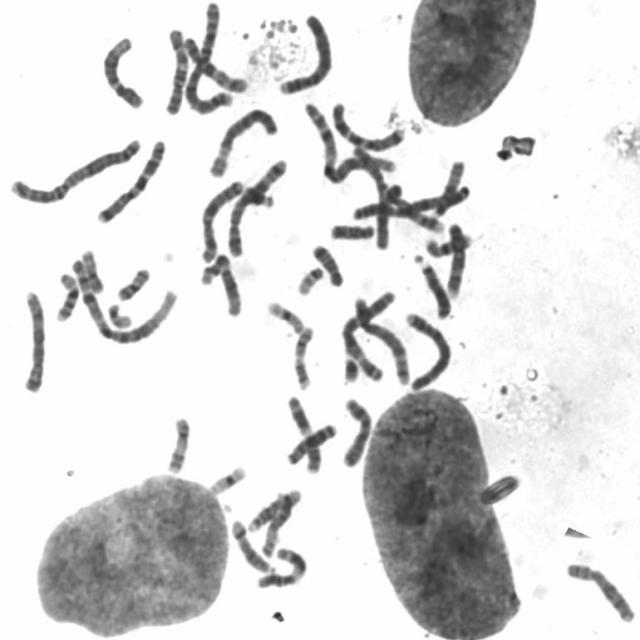A1: (70, 245, 180, 348), (299, 93, 401, 187)
A2: (4, 130, 146, 206), (180, 4, 235, 117)
A3: (334, 284, 398, 385), (347, 179, 473, 222)
B4: (272, 6, 335, 97), (397, 304, 454, 392)
B5: (221, 150, 290, 258), (347, 288, 413, 386)
C10: (177, 28, 251, 94), (158, 20, 188, 116)
C11: (280, 387, 323, 475), (250, 540, 309, 590)
C12: (96, 28, 146, 110), (194, 246, 244, 318)
C6: (203, 100, 280, 179), (347, 140, 393, 251)
C7: (90, 131, 168, 224), (325, 94, 407, 152)
C8: (560, 554, 638, 624), (16, 283, 48, 395)
C9: (380, 178, 449, 235), (440, 216, 470, 300)
D13: (407, 247, 453, 320), (280, 416, 340, 466)
D14: (241, 482, 303, 534), (224, 513, 274, 573)
D15: (254, 481, 300, 559), (427, 152, 468, 218)
E16: (49, 264, 81, 324), (420, 226, 474, 258)
E17: (286, 318, 316, 391), (160, 408, 192, 475)
E18: (305, 237, 346, 288), (324, 216, 378, 242)
F19: (203, 458, 248, 496), (262, 298, 307, 334)
F20: (110, 260, 153, 303), (76, 244, 106, 295)
G21: (336, 349, 362, 384), (240, 184, 275, 210)
G22: (291, 260, 327, 296), (107, 303, 133, 330)
X: (192, 173, 245, 265), (335, 390, 374, 469)
